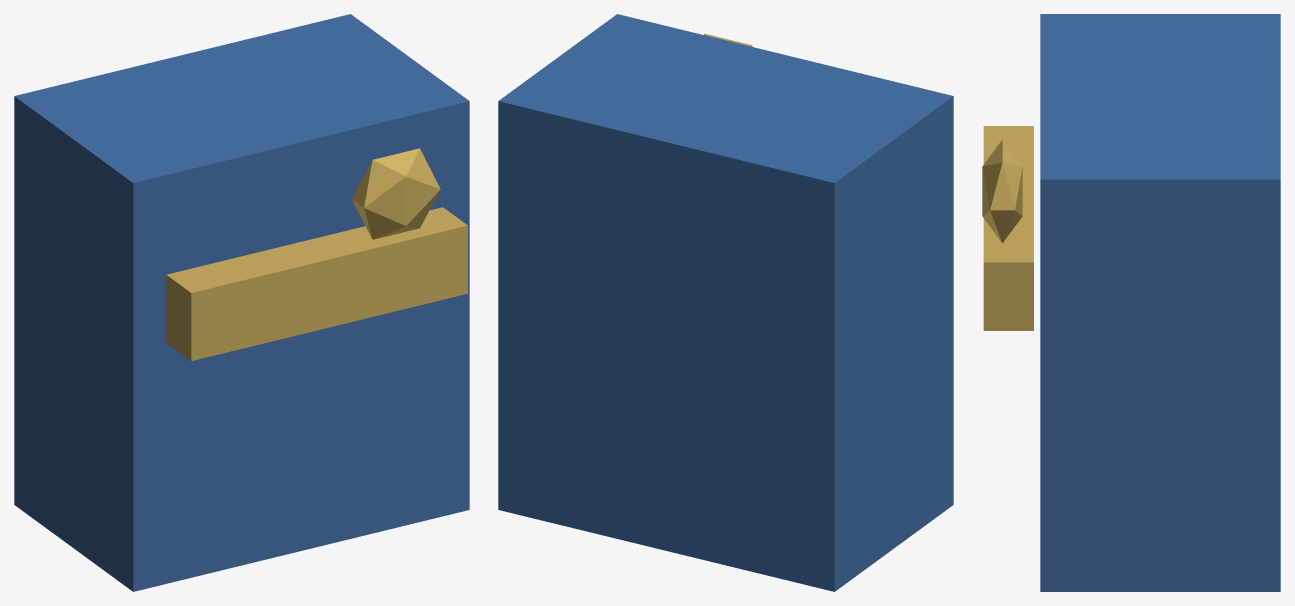
File: scholar_outfit.glb
The picture shows the model from 3 angles, left to right: view 1: azimuth 30°, elevation 25°; view 2: azimuth 150°, elevation 25°; view 3: azimuth 270°, elevation 25°; orthographic projection.
Visible parts, largest first — view 1: outfit_torso, outfit_trim, outfit_badge; view 2: outfit_torso; view 3: outfit_torso, outfit_trim, outfit_badge.
Boxes of the visible parts, box(x1,y1,x2,y2) form: outfit_torso: box(14, 14, 469, 591); outfit_trim: box(166, 207, 467, 360); outfit_badge: box(352, 148, 440, 239); outfit_torso: box(498, 14, 953, 591); outfit_torso: box(1040, 14, 1280, 591); outfit_trim: box(983, 126, 1033, 330); outfit_badge: box(982, 139, 1022, 242).
Size of the model in its own units: 0.62 by 0.72 by 0.4718.
